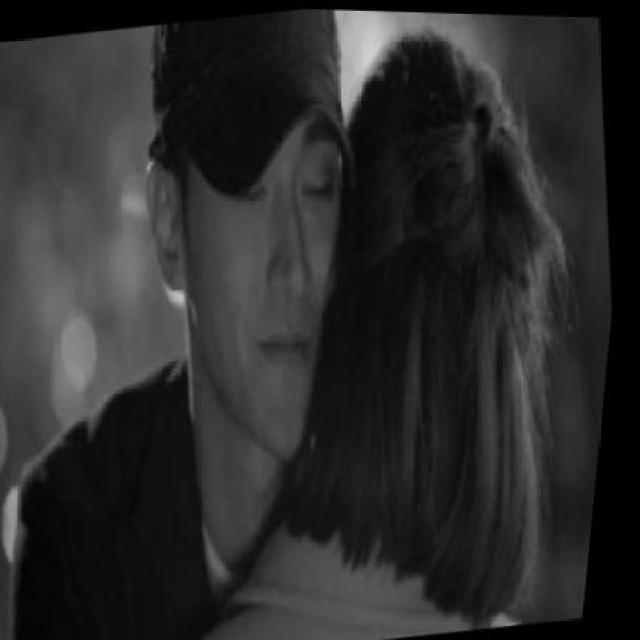hat: (138, 4, 368, 210)
